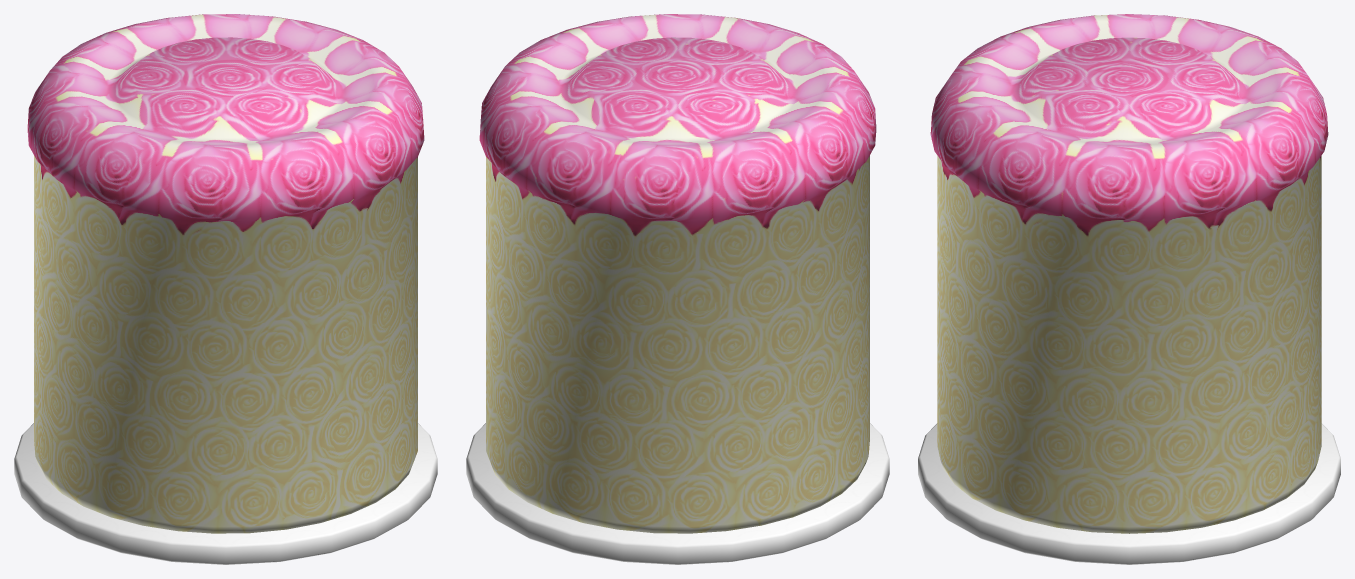
File: BuffetCakes01_4.FBX
3 views of the same model, side by side, from view 1: azimuth 30°, elevation 25°; view 2: azimuth 150°, elevation 25°; view 3: azimuth 270°, elevation 25° (orthographic).
Visible parts, largest first — view 1: BuffetCakes01_4; view 2: BuffetCakes01_4; view 3: BuffetCakes01_4.
Part boxes in pixels (left/top/right/bottom): BuffetCakes01_4: left=14, top=14, right=437, bottom=564; BuffetCakes01_4: left=466, top=14, right=889, bottom=564; BuffetCakes01_4: left=918, top=14, right=1340, bottom=564.
Size of what is drawn, in the model's own units: 0.4745 by 0.4945 by 0.4745.
